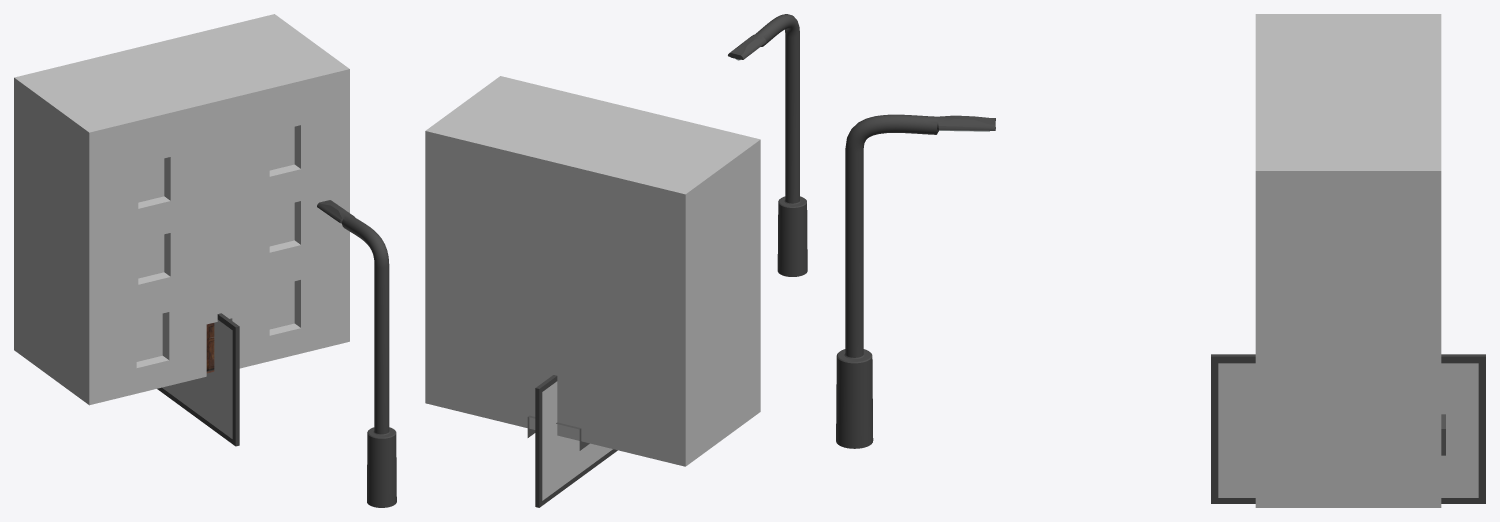
The model's file is MapSourrindings.fbx.
3 views of the same model, side by side, from view 1: azimuth 30°, elevation 25°; view 2: azimuth 150°, elevation 25°; view 3: azimuth 270°, elevation 25° (orthographic). The views are drawn at different scales.
Visible parts, largest first — view 1: Building1, Street_Lamp, Fence; view 2: Building1, Street_Lamp, Fence; view 3: Building1, Fence, Street_Lamp.
Boxes of the visible parts, left/top/right/bottom form: Building1: left=14, top=14, right=349, bottom=405; Street_Lamp: left=317, top=200, right=396, bottom=507; Fence: left=157, top=313, right=239, bottom=446; Building1: left=425, top=76, right=760, bottom=466; Street_Lamp: left=728, top=14, right=807, bottom=276; Fence: left=535, top=375, right=617, bottom=507; Building1: left=1255, top=14, right=1441, bottom=507; Fence: left=1211, top=354, right=1485, bottom=503; Street_Lamp: left=836, top=114, right=995, bottom=448.
Bounding box in the file's own units: 2000 × 2435 × 3497.
